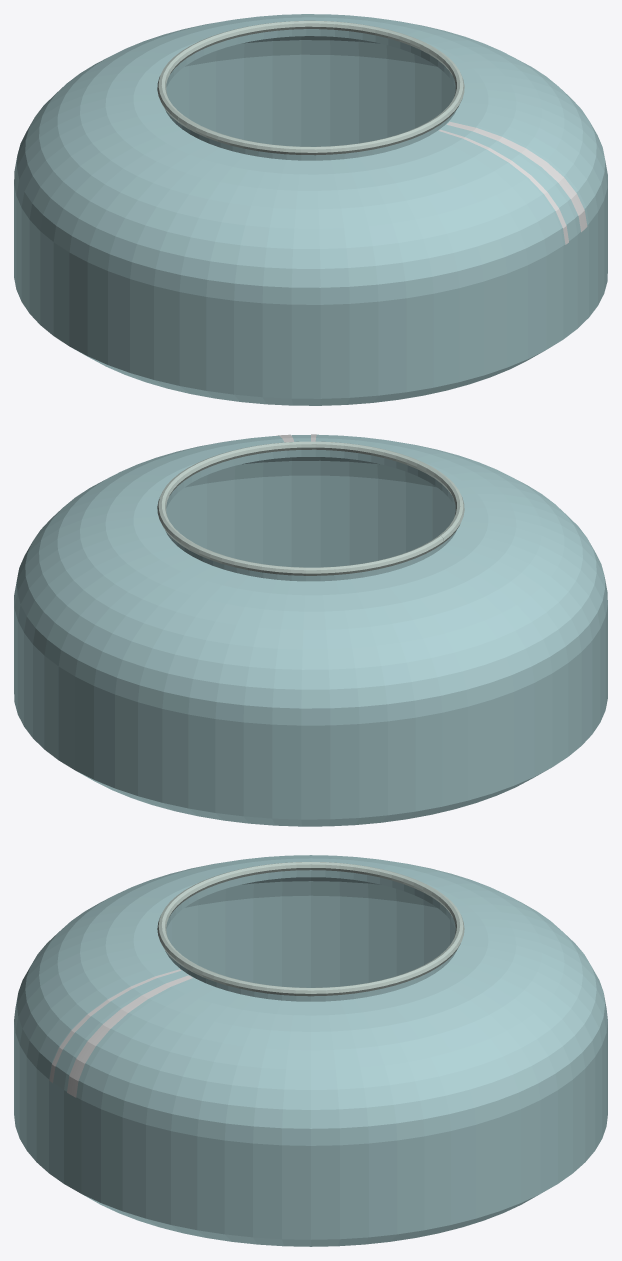
Rendered from goo_jar_glass_4_top.fbx.
The picture shows the model from 3 angles, top to bottom: view 1: azimuth 30°, elevation 25°; view 2: azimuth 150°, elevation 25°; view 3: azimuth 270°, elevation 25°; orthographic projection.
Parts seen in each view (by area): view 1: goo_jar_glass_4_top; view 2: goo_jar_glass_4_top; view 3: goo_jar_glass_4_top.
Part boxes in pixels (x1,y1,x2,y2): goo_jar_glass_4_top: [14, 14, 607, 405]; goo_jar_glass_4_top: [14, 434, 607, 826]; goo_jar_glass_4_top: [14, 855, 607, 1246].
Bounding box in the file's own units: 43 × 16.52 × 43.
